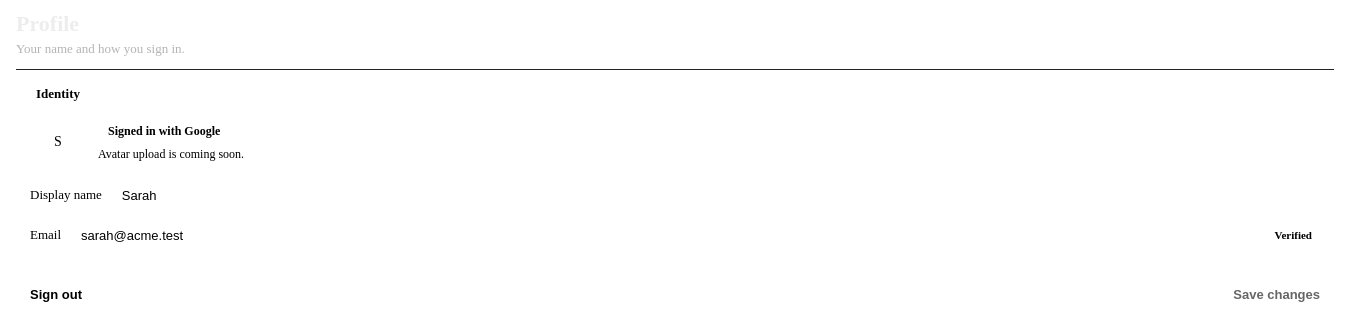
it: <ProfilePage> › save button is disabled until the display name changes
The width and height of the screenshot is (1351, 327).
Expected: the button with test id "profile-save" is disabled, [1219, 278, 1334, 310]
Step 1. Replace the text in the field with test id "profile-display-name" with "Sarah K" → (717, 195), box [114, 180, 1320, 210]
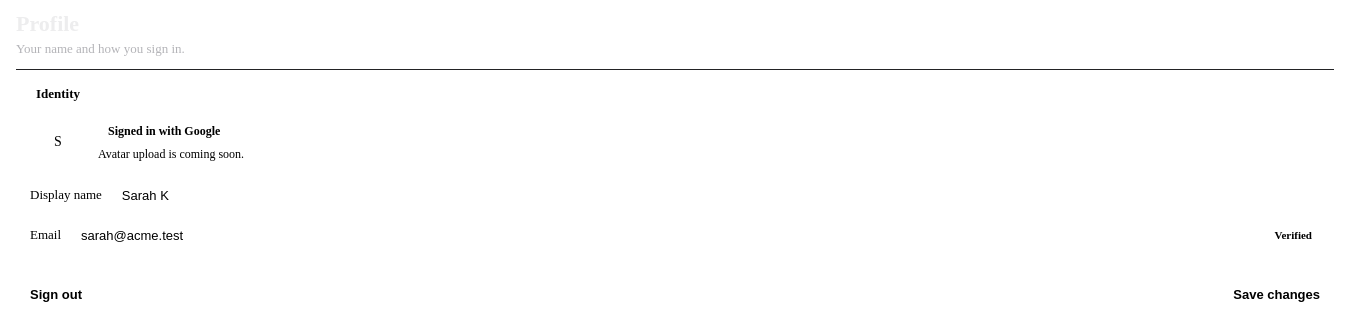
Result: the button with test id "profile-save" is enabled at [1219, 278, 1334, 310]
